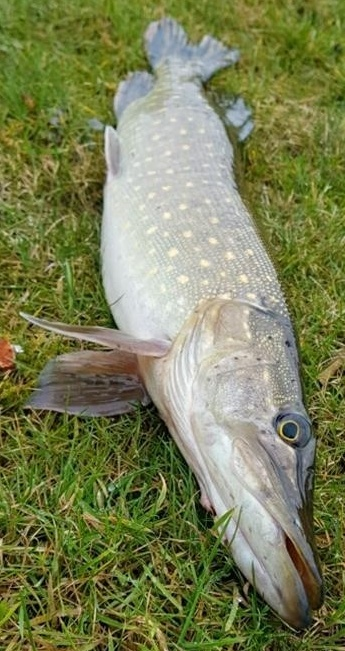Esox lucius: (20, 20, 325, 631)
